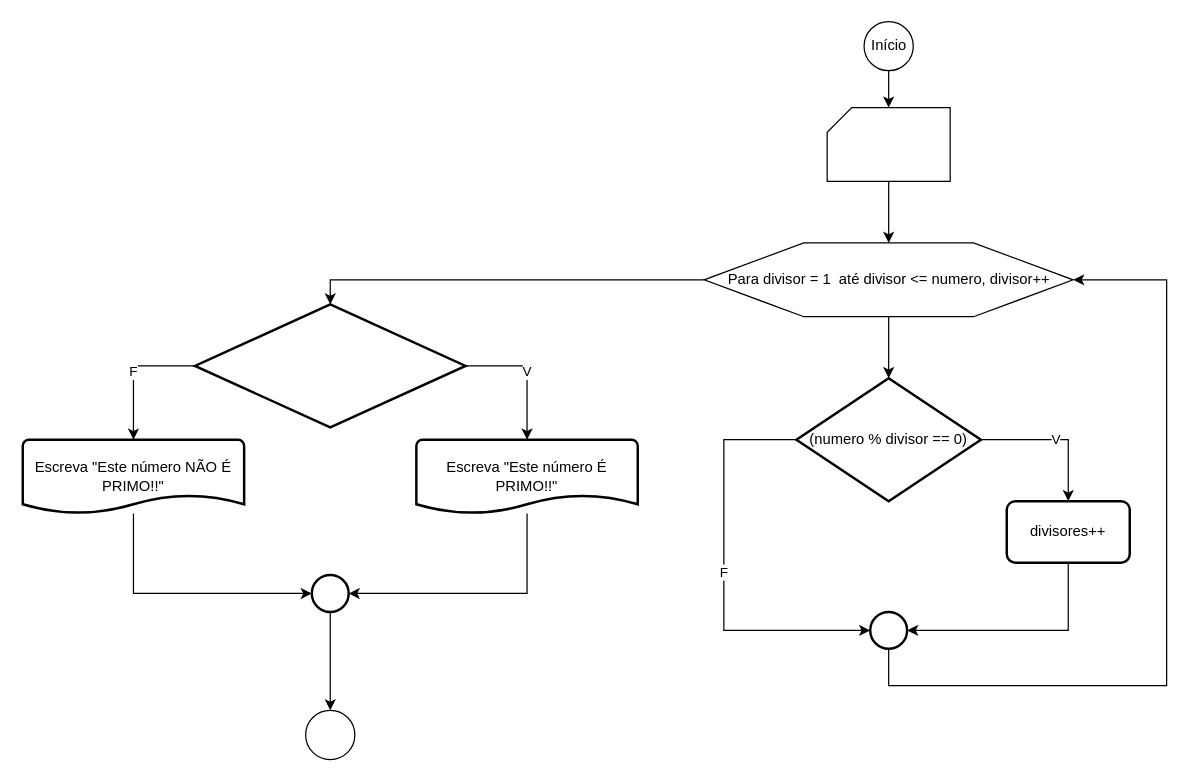
Some shapes in this 1198 by 781 pixel diagram are drawn without their labels. Here are the shapes that lost their labels. From the top down, the centre of each, then its label:
(x=888, y=143): Leia numero
(x=329, y=365): (divisores == 1 || divisores == 2)
(x=329, y=734): Fim
